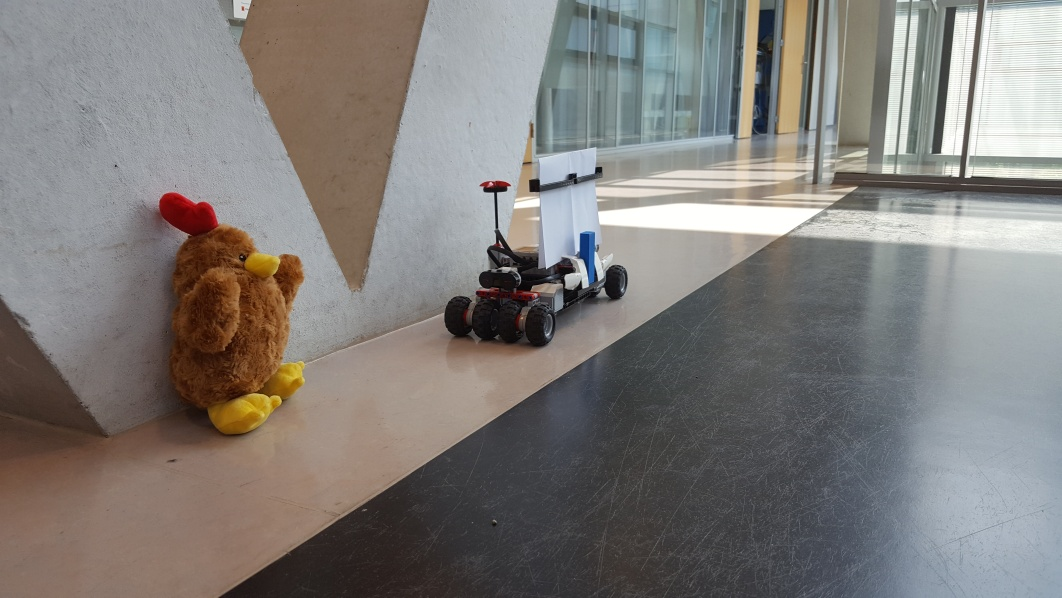beam: (575, 227, 598, 286)
chicken: (153, 191, 308, 435)
